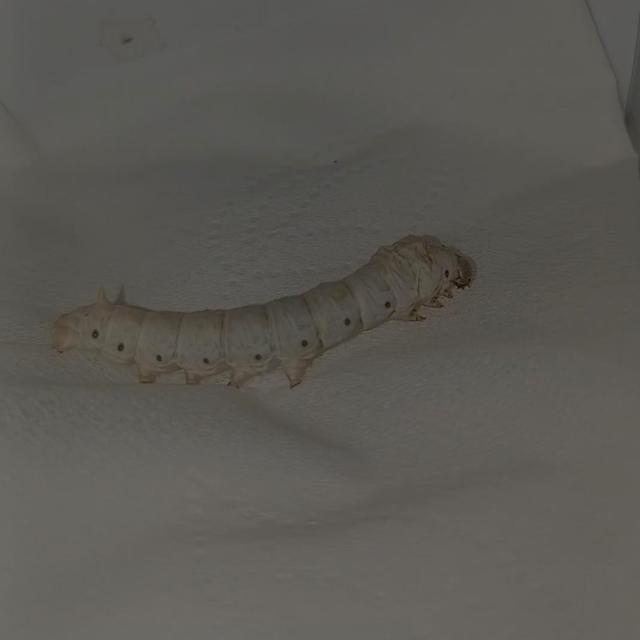Healthy: (36, 218, 484, 392)
